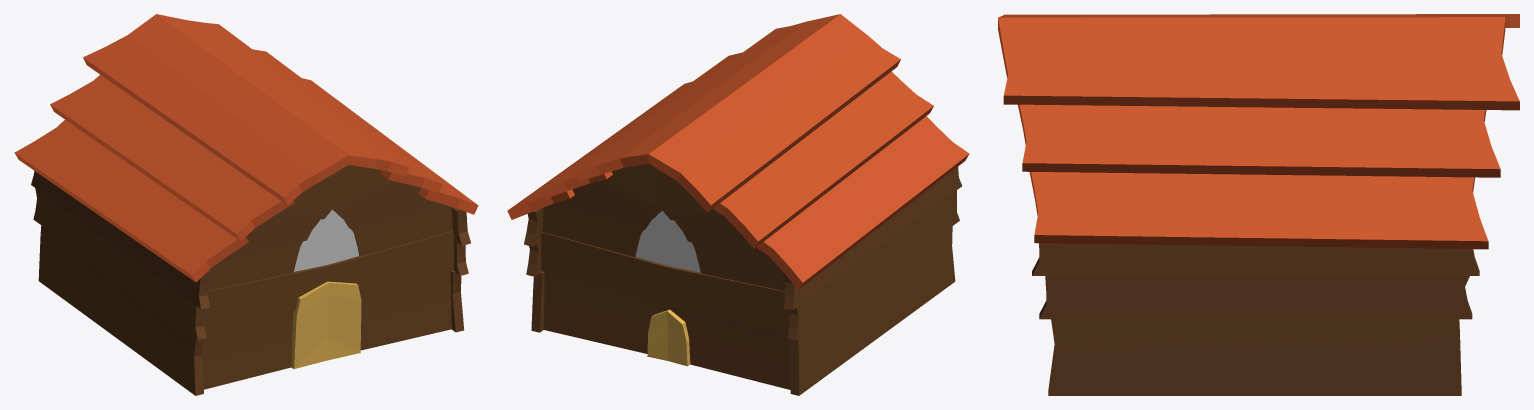
File: House.fbx
3 views of the same model, side by side, from view 1: azimuth 30°, elevation 25°; view 2: azimuth 150°, elevation 25°; view 3: azimuth 270°, elevation 25° (orthographic). The views are drawn at different scales.
Visible parts, largest first — view 1: House; view 2: House; view 3: House.
Boxes of the visible parts, x1,y1,x2,y2 form: House: (14, 14, 478, 395); House: (507, 14, 969, 395); House: (998, 14, 1519, 395).
Bounding box in the file's own units: 1163 × 832 × 1345.
